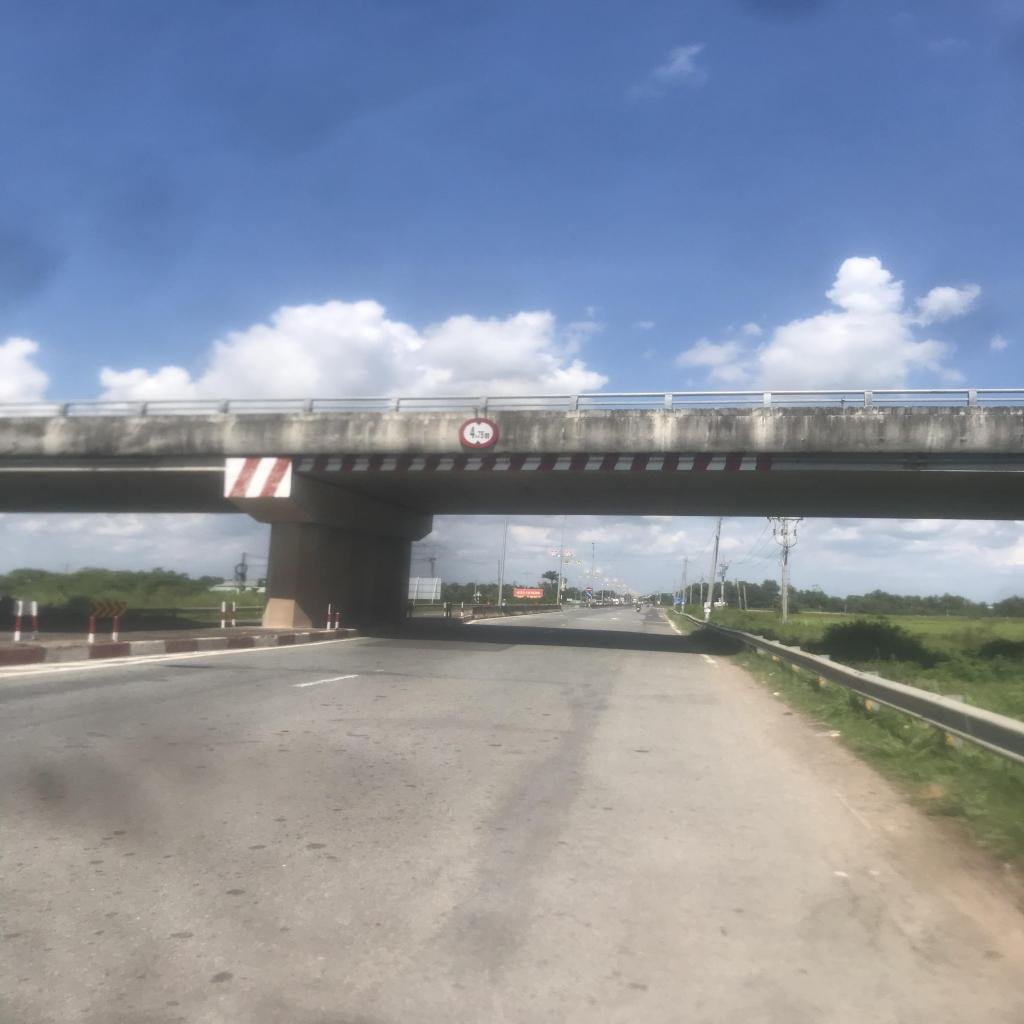han_che_chieu_cao: (454, 416, 502, 451)
